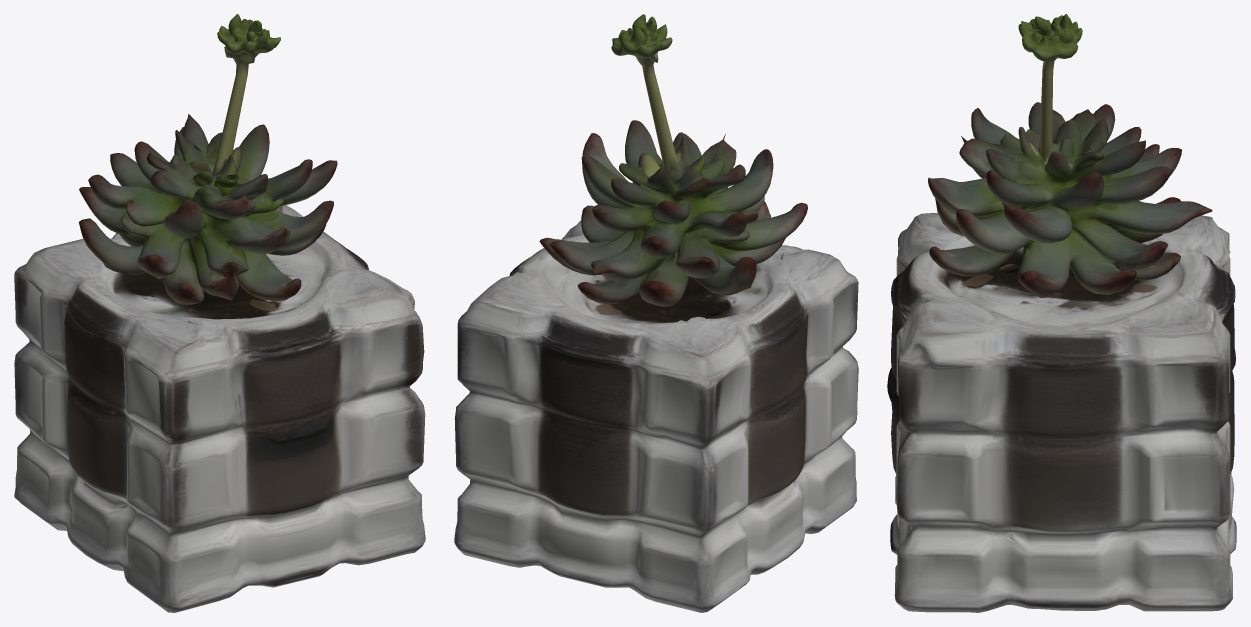
The model's file is plant.glb.
The picture shows the model from 3 angles, left to right: view 1: azimuth 30°, elevation 25°; view 2: azimuth 150°, elevation 25°; view 3: azimuth 270°, elevation 25°; orthographic projection. The views are drawn at different scales.
Visible parts, largest first — view 1: mesh_rep_0_ori_repair_quad; view 2: mesh_rep_0_ori_repair_quad; view 3: mesh_rep_0_ori_repair_quad.
Boxes of the visible parts, box(x1,y1,x2,y2) form: mesh_rep_0_ori_repair_quad: box(14, 14, 425, 612); mesh_rep_0_ori_repair_quad: box(454, 14, 858, 612); mesh_rep_0_ori_repair_quad: box(887, 14, 1236, 612).
Bounding box in the file's own units: 0.0496 × 0.0885 × 0.0509.
1 material, 1 textured.
